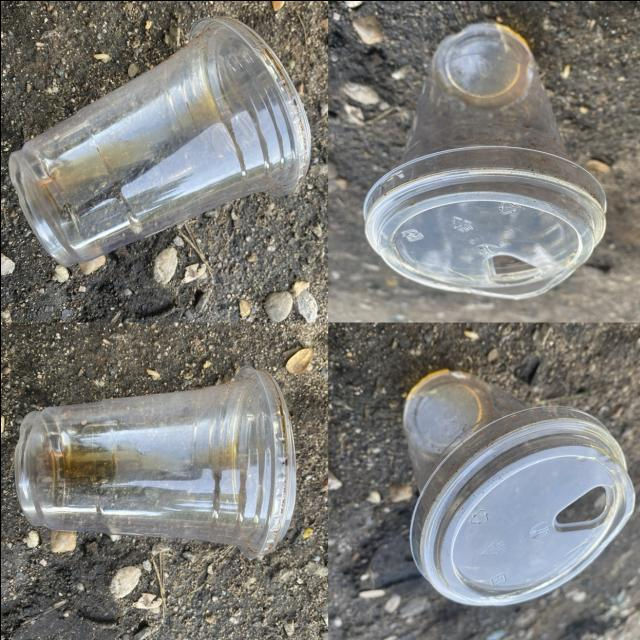plastik: (9, 17, 309, 265), (363, 22, 606, 298), (14, 365, 295, 558), (403, 370, 634, 604)
